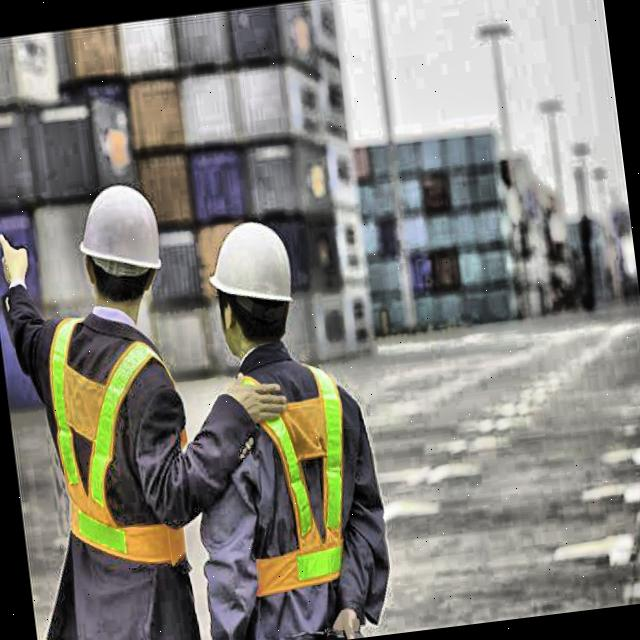helmet: (60, 168, 182, 338), (194, 202, 308, 377)
